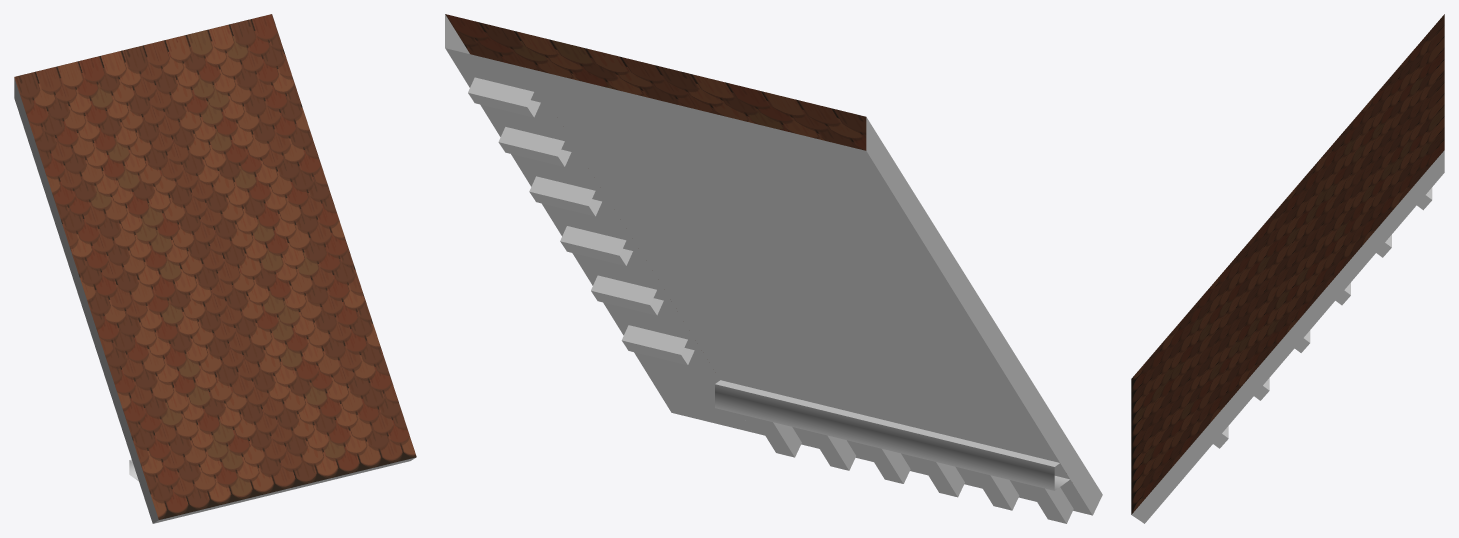
The model's file is Roof_End_Normal_01_B.FBX.
3 views of the same model, side by side, from view 1: azimuth 30°, elevation 25°; view 2: azimuth 150°, elevation 25°; view 3: azimuth 270°, elevation 25° (orthographic). The views are drawn at different scales.
Parts seen in each view (by area): view 1: Roof_End_Normal_01_B; view 2: Roof_End_Normal_01_B; view 3: Roof_End_Normal_01_B.
Part boxes in pixels (bbox=[...]): Roof_End_Normal_01_B: bbox=[14, 14, 416, 523]; Roof_End_Normal_01_B: bbox=[445, 14, 1102, 523]; Roof_End_Normal_01_B: bbox=[1131, 14, 1444, 523].
Bounding box in the file's own units: 7.75 × 10.04 × 7.53.
